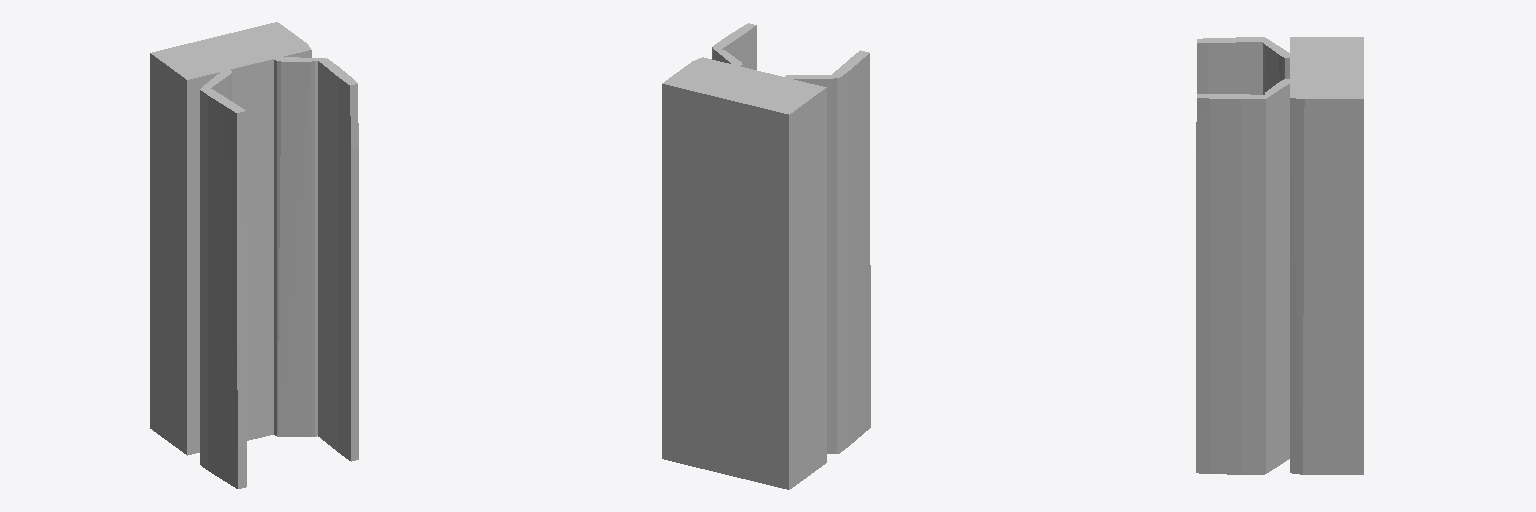
File: base_link_collision_vhacd.obj
3 renders of one model, left to right at view 1: azimuth 30°, elevation 25°; view 2: azimuth 150°, elevation 25°; view 3: azimuth 270°, elevation 25°, orthographic.
Parts seen in each view (by area): view 1: convex_2, convex_0, convex_4, convex_1, convex_3; view 2: convex_2, convex_0, convex_3, convex_1; view 3: convex_2, convex_1, convex_4, convex_0, convex_3.
Boxes of the visible parts, x1,y1,x2,y2 form: convex_2: [150, 22, 311, 455]; convex_0: [201, 88, 246, 488]; convex_4: [274, 57, 325, 436]; convex_1: [318, 58, 358, 461]; convex_3: [200, 70, 231, 464]; convex_2: [662, 57, 826, 489]; convex_0: [832, 50, 870, 452]; convex_3: [785, 75, 839, 453]; convex_1: [712, 23, 756, 69]; convex_2: [1290, 37, 1363, 474]; convex_1: [1196, 94, 1264, 474]; convex_4: [1265, 79, 1289, 473]; convex_0: [1197, 37, 1262, 94]; convex_3: [1263, 37, 1289, 94].
Size of the model in its own units: 2220 by 6248 by 2549.